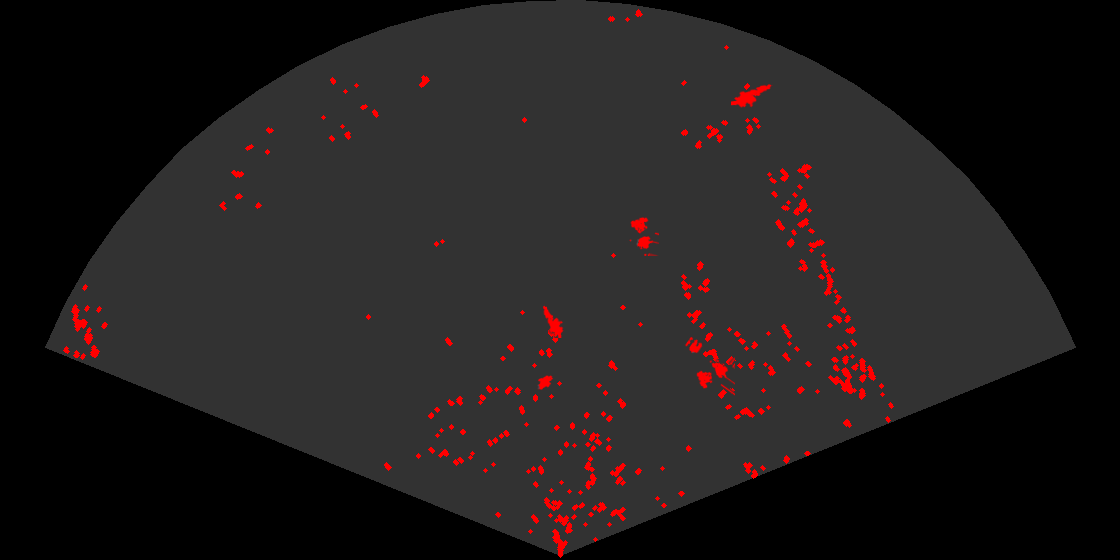AUV: (536, 374, 555, 391)
ball: (683, 335, 704, 355)
cage: (695, 356, 735, 397), (628, 216, 659, 256)
frogman: (731, 83, 773, 109), (541, 303, 565, 338)
